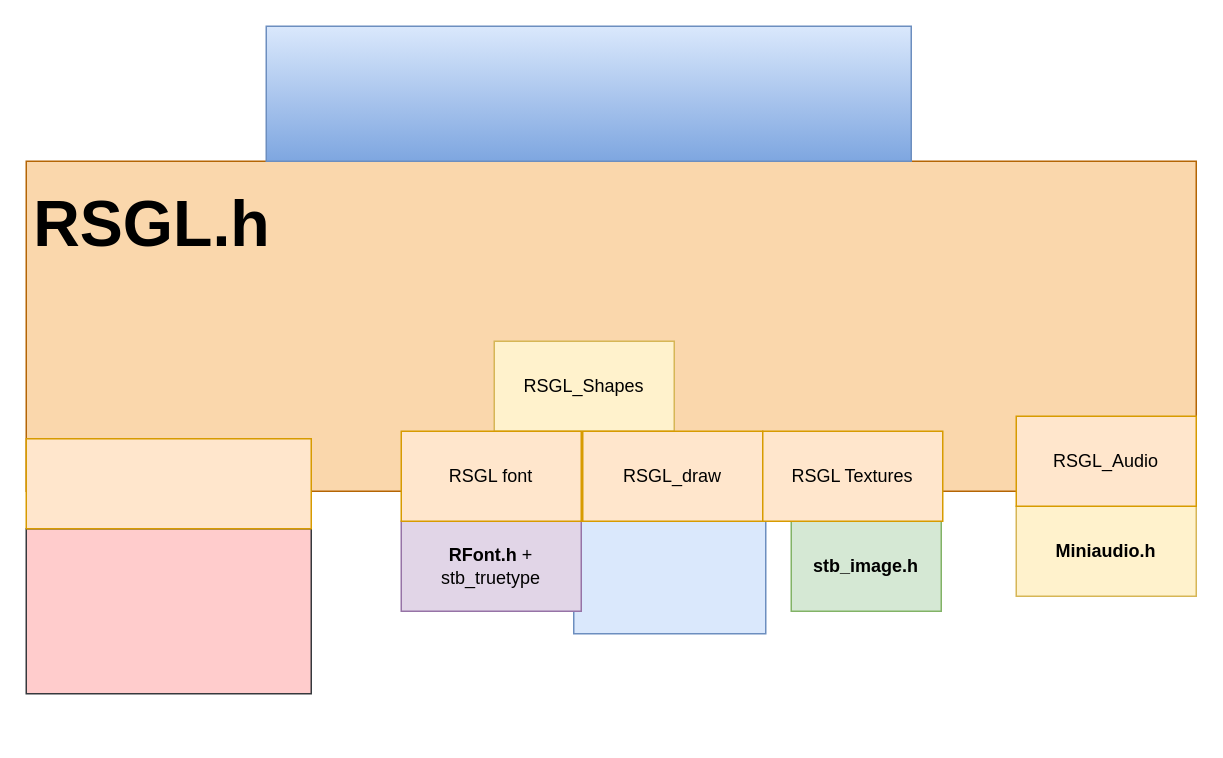
Image size: 1223x758. Some labels were removed from this diagram. The centre of each missing label's shape, as x and y in pixels:
RGFW.h Xlib, WinAPI, Silicon.h Cocoa: point 168,610
RGL.h OpenGL: point 669,577
RSGL Core: point 168,483
Your GUI Software: point 588,93
